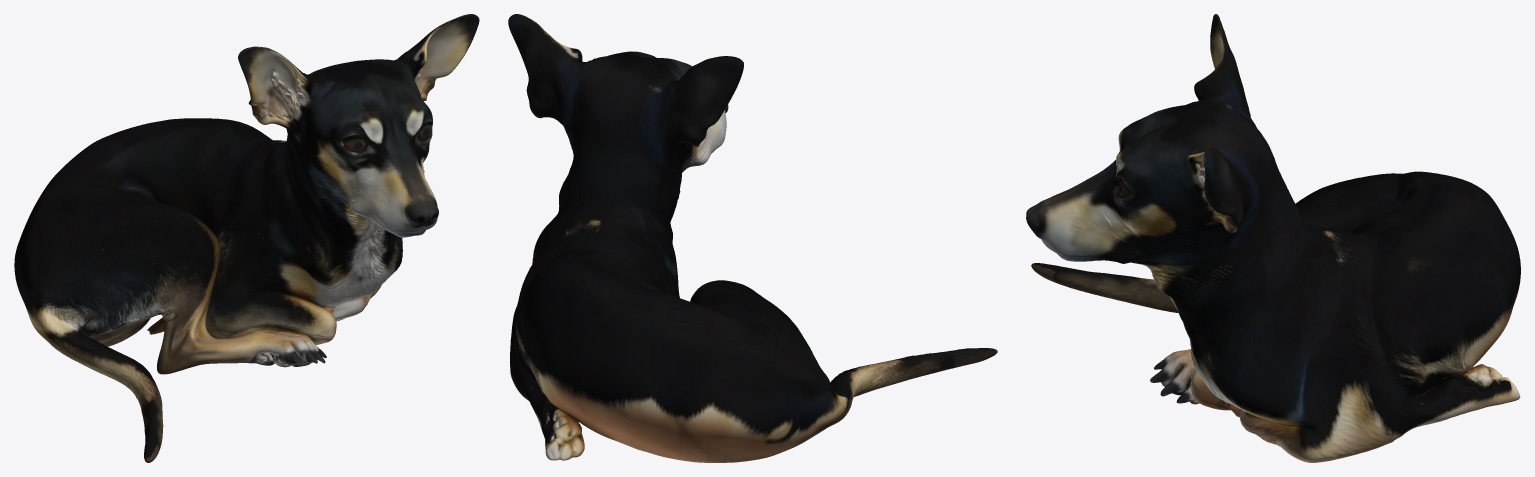
The model's file is zuki_laying.glb.
The picture shows the model from 3 angles, left to right: view 1: azimuth 30°, elevation 25°; view 2: azimuth 150°, elevation 25°; view 3: azimuth 270°, elevation 25°; orthographic projection. The views are drawn at different scales.
Size of the model in its own units: 1.9 by 1.4 by 1.76.
1 material, 1 textured.
